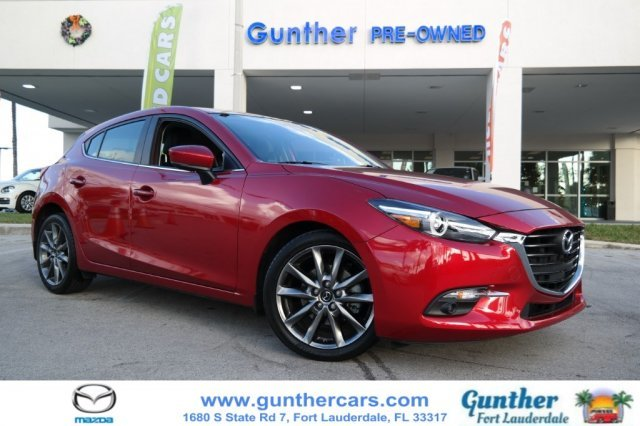Mazda3 Hatchback: (31, 106, 588, 364)
